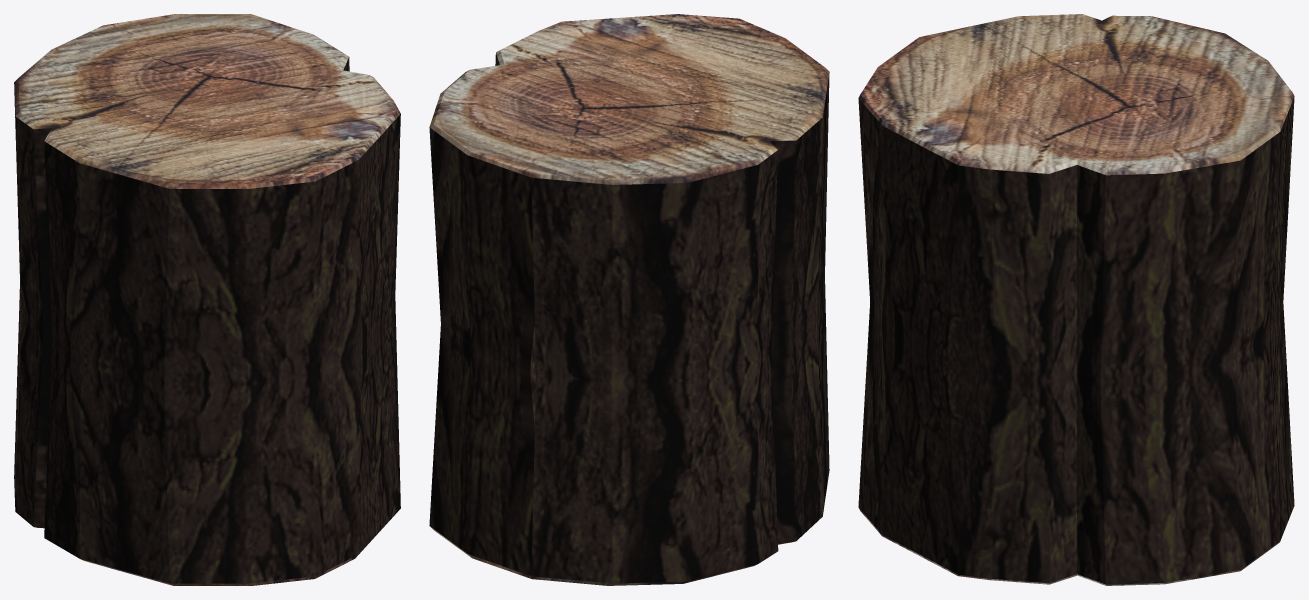
File: SM_Log.fbx
The picture shows the model from 3 angles, left to right: view 1: azimuth 30°, elevation 25°; view 2: azimuth 150°, elevation 25°; view 3: azimuth 270°, elevation 25°; orthographic projection. The views are drawn at different scales.
Visible parts, largest first — view 1: Cylinder.012; view 2: Cylinder.012; view 3: Cylinder.012.
Part boxes in pixels (left/top/right/bottom): Cylinder.012: left=14, top=14, right=400, bottom=585; Cylinder.012: left=429, top=14, right=829, bottom=585; Cylinder.012: left=858, top=14, right=1294, bottom=585.
Size of the model in its own units: 44.59 by 53.51 by 50.79.
